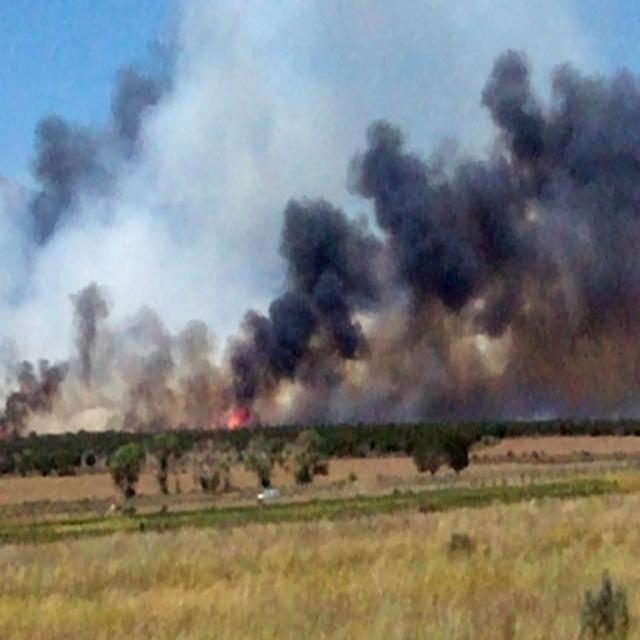Smoke: (20, 12, 640, 431)
